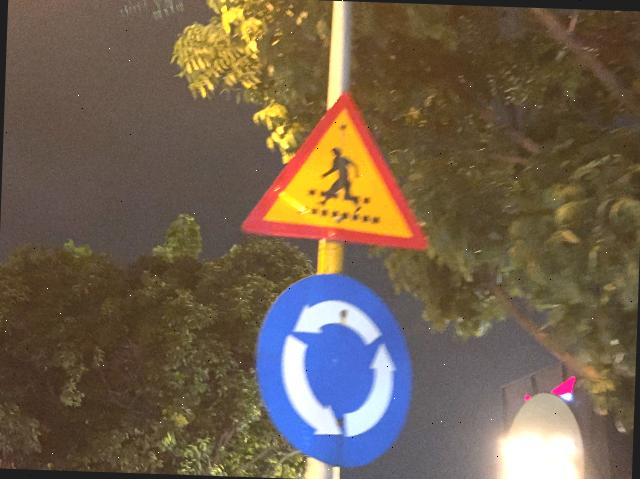duong-nguoi-di-bo-cat-ngang: (238, 84, 434, 250)
noi-giao-nhau-chay-theo-vong-xuyen: (251, 268, 416, 471)
